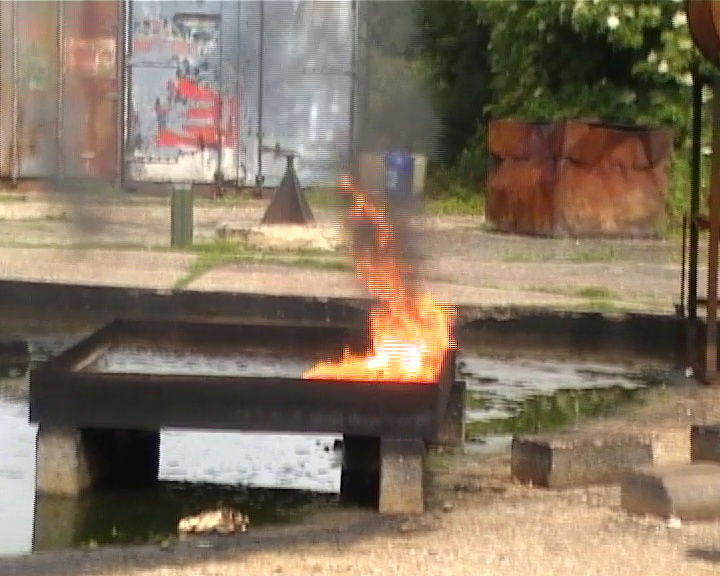fire: (309, 194, 454, 382)
